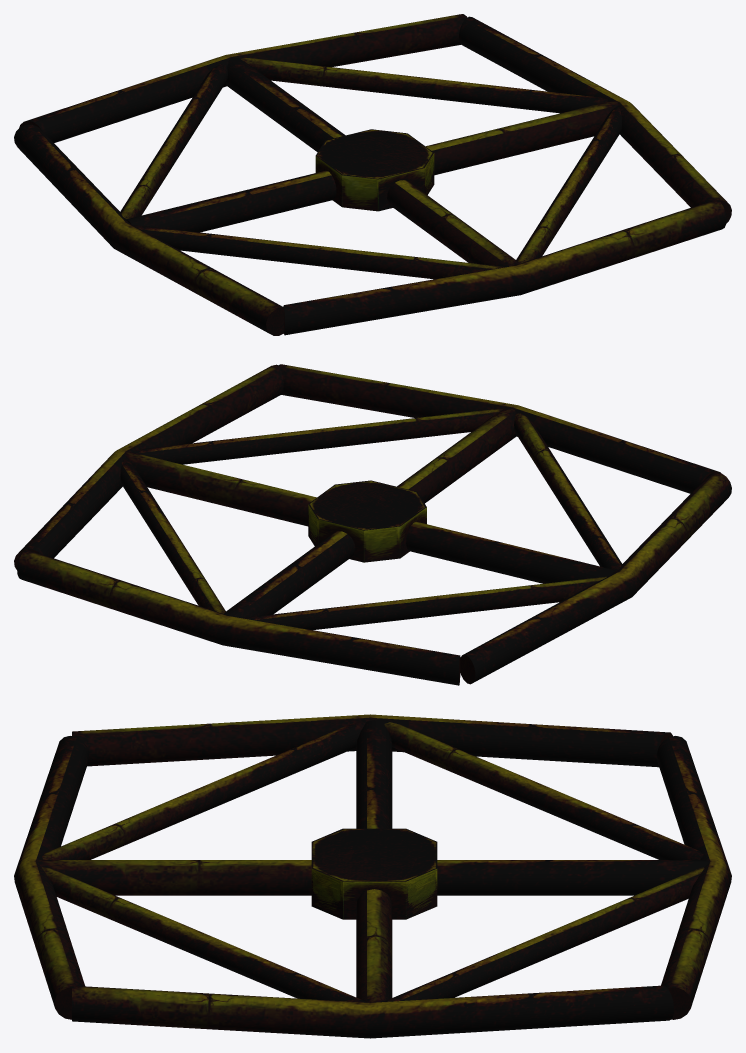
The model's file is Beam Frame Level Model Textured.fbx.
3 renders of one model, top to bottom at view 1: azimuth 30°, elevation 25°; view 2: azimuth 150°, elevation 25°; view 3: azimuth 270°, elevation 25°, orthographic. The views are drawn at different scales.
Parts seen in each view (by area): view 1: polySurface91; view 2: polySurface91; view 3: polySurface91.
Part boxes in pixels (x1=…): polySurface91: x1=14, y1=14, x2=731, y2=335; polySurface91: x1=14, y1=364, x2=731, y2=685; polySurface91: x1=14, y1=714, x2=731, y2=1038.
Size of the model in its own units: 1.77 by 0.1079 by 1.77.
Materials: 2 (2 with a texture image).
